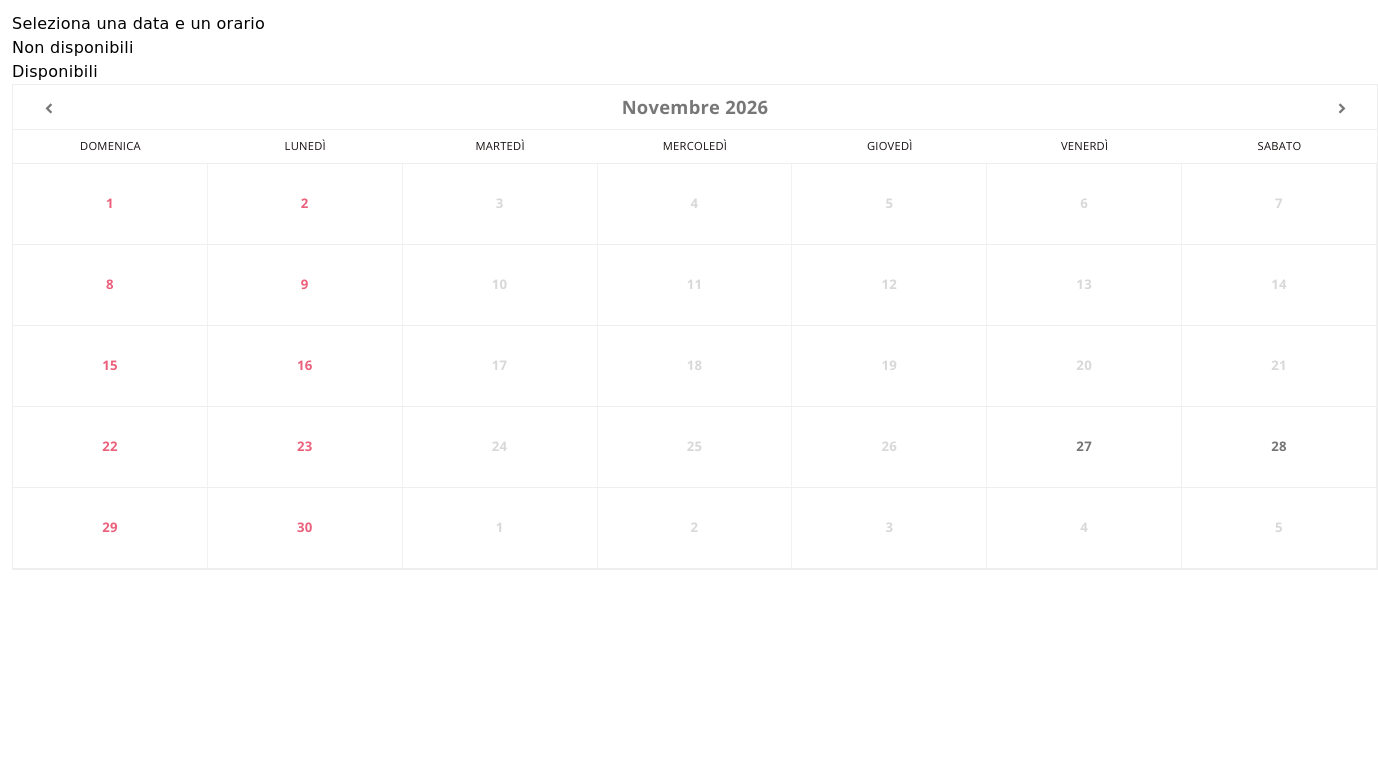
special openings in the public calendar › keeps ordinary days usable if the special openings have not synced
Step 1. Click the 2nd button "chevron_right" → (1341, 109), box x1=1332 y1=100 x2=1351 y2=118
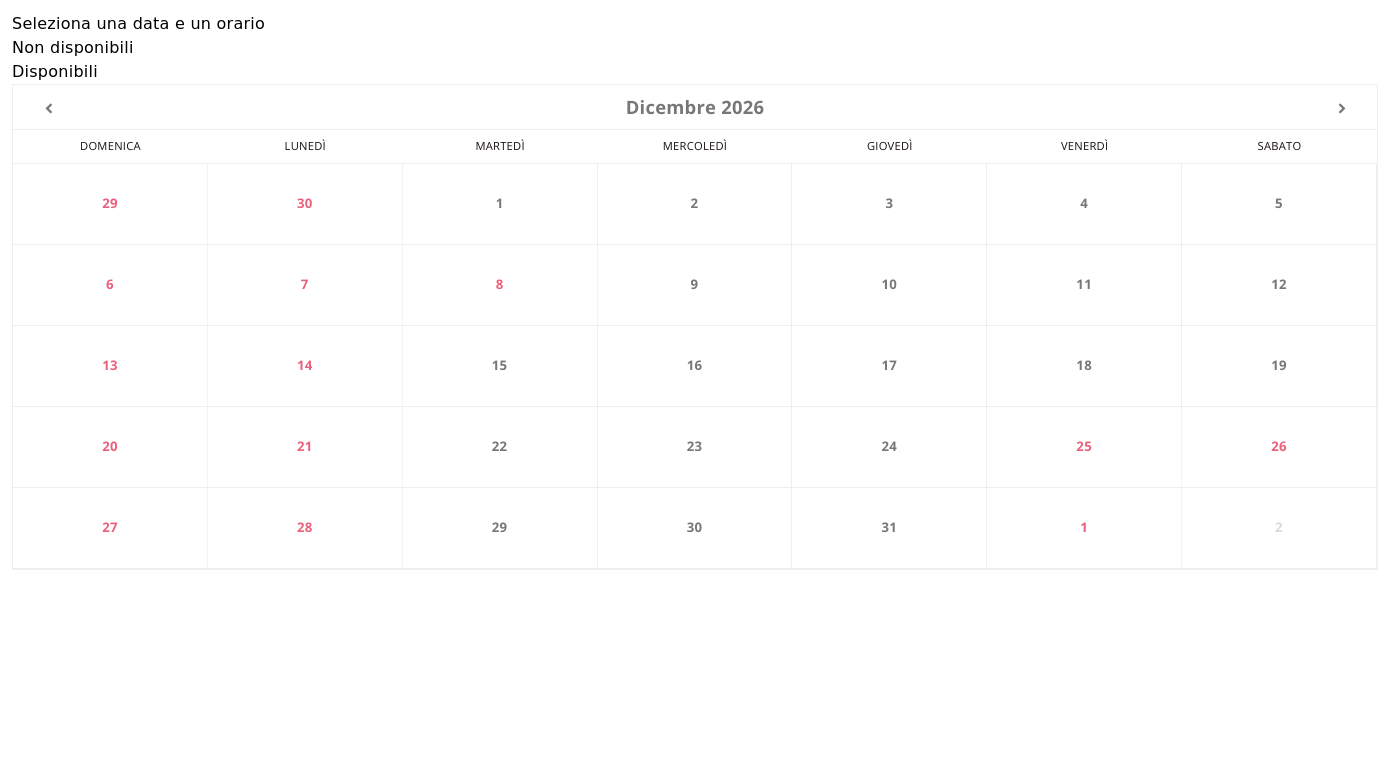
Now the button with class "t29-12" is enabled, box x1=403 y1=488 x2=598 y2=568
